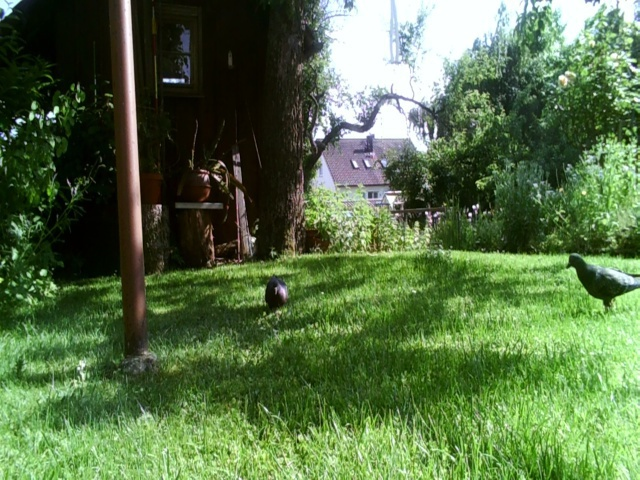Pigeon: (555, 247, 640, 317), (261, 267, 287, 310)
